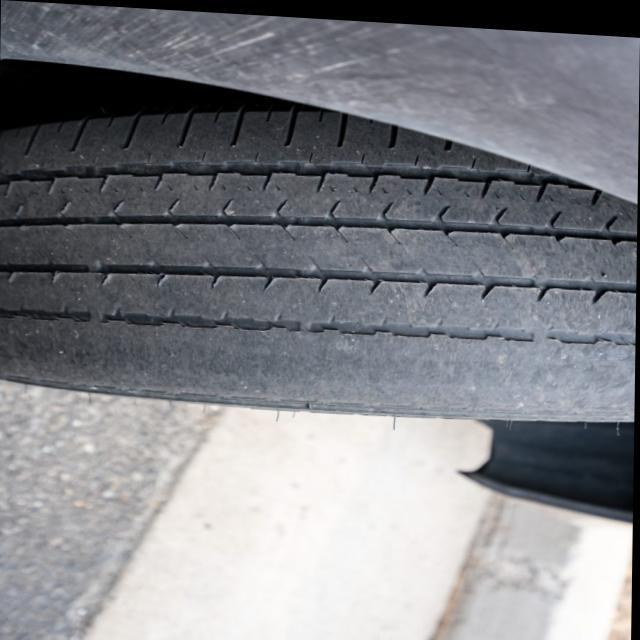Flat spots: (0, 319, 635, 419)
Non-defective: (0, 109, 639, 306)
